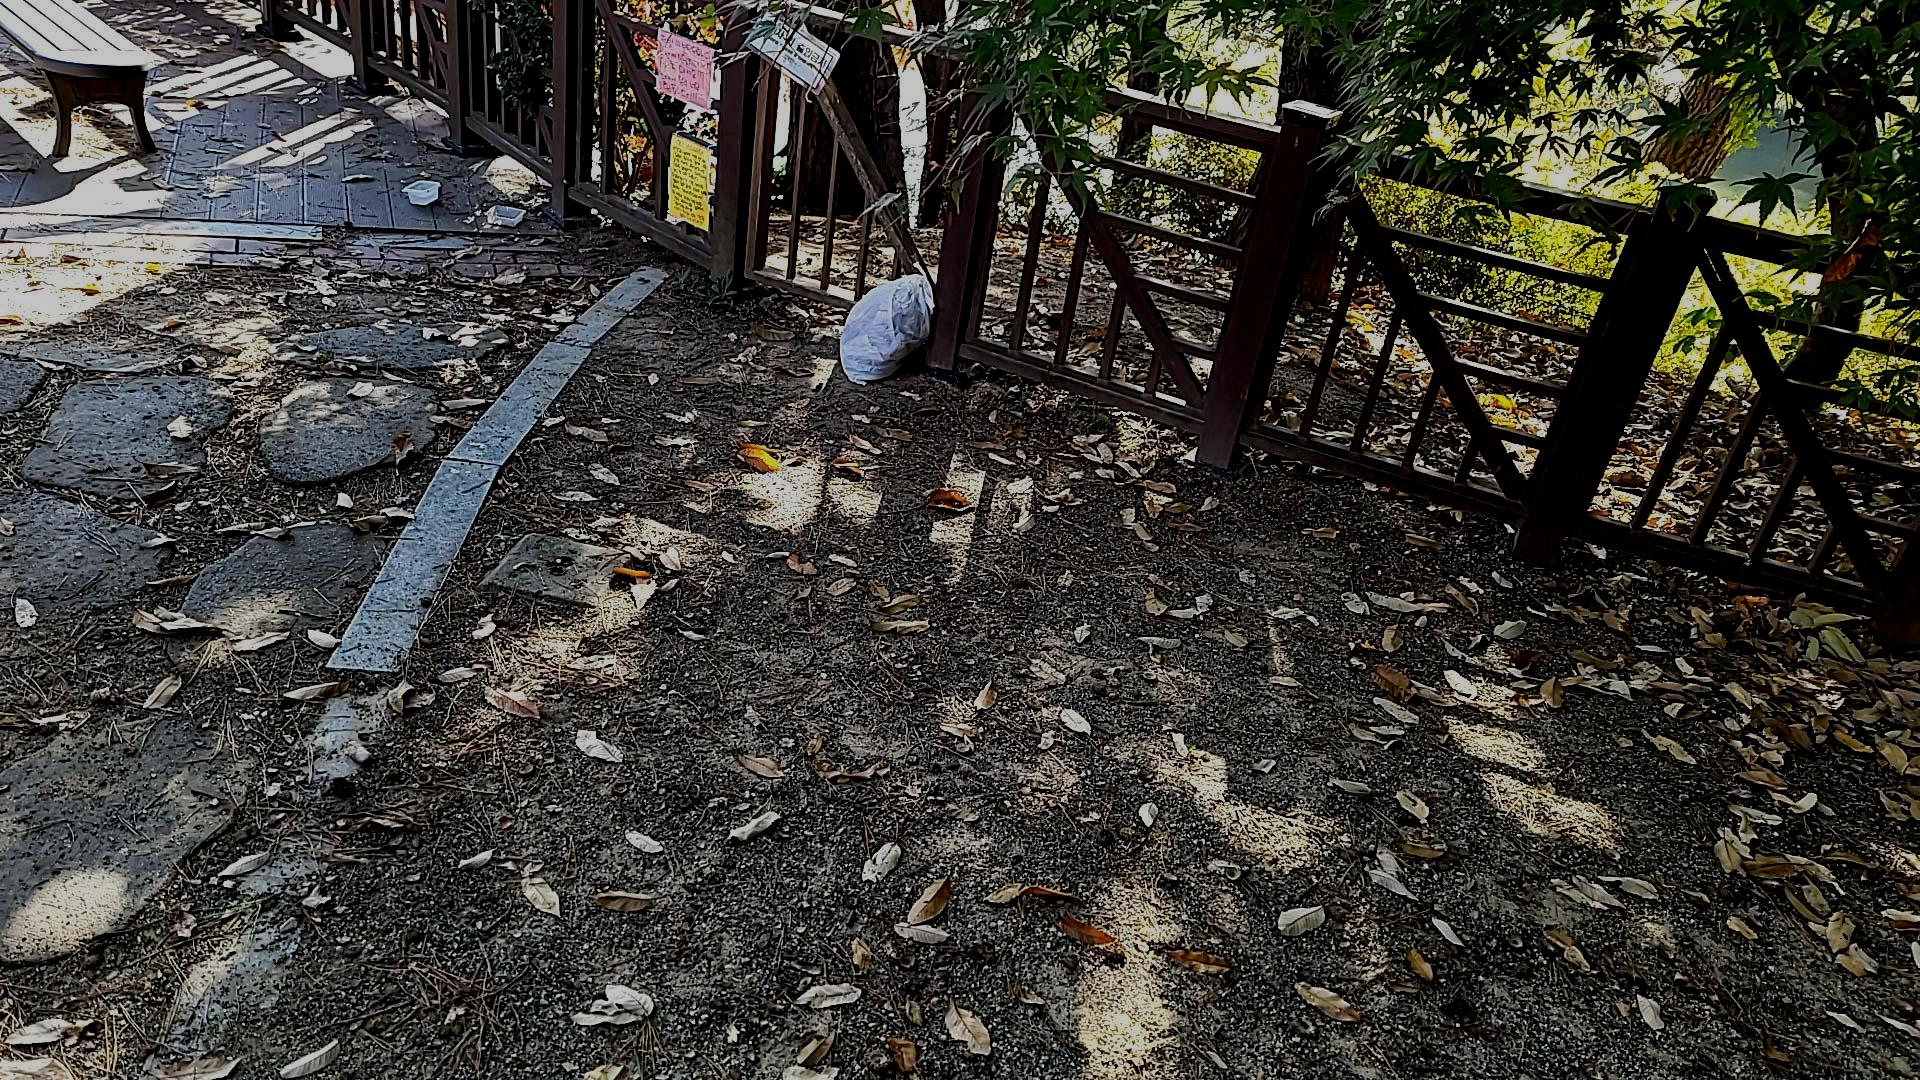white_bag: (827, 252, 940, 392)
